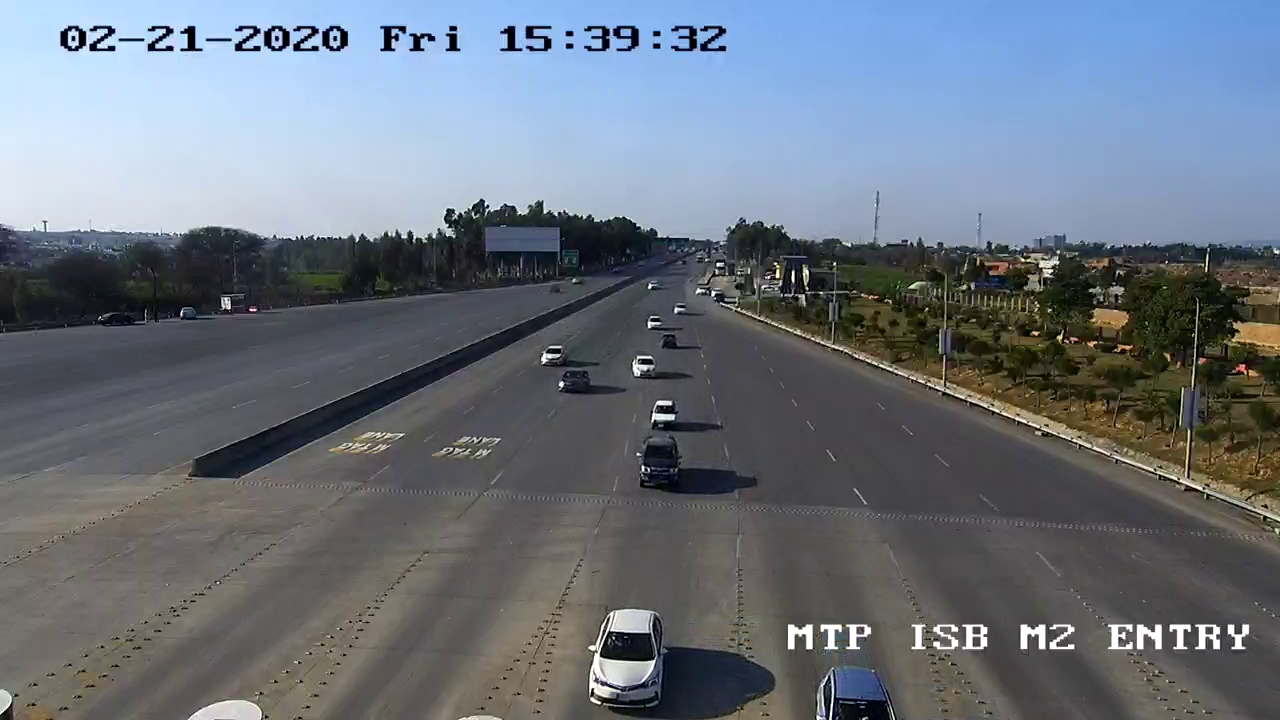f1: (575, 595, 680, 720), (632, 432, 706, 501), (552, 358, 600, 408)
